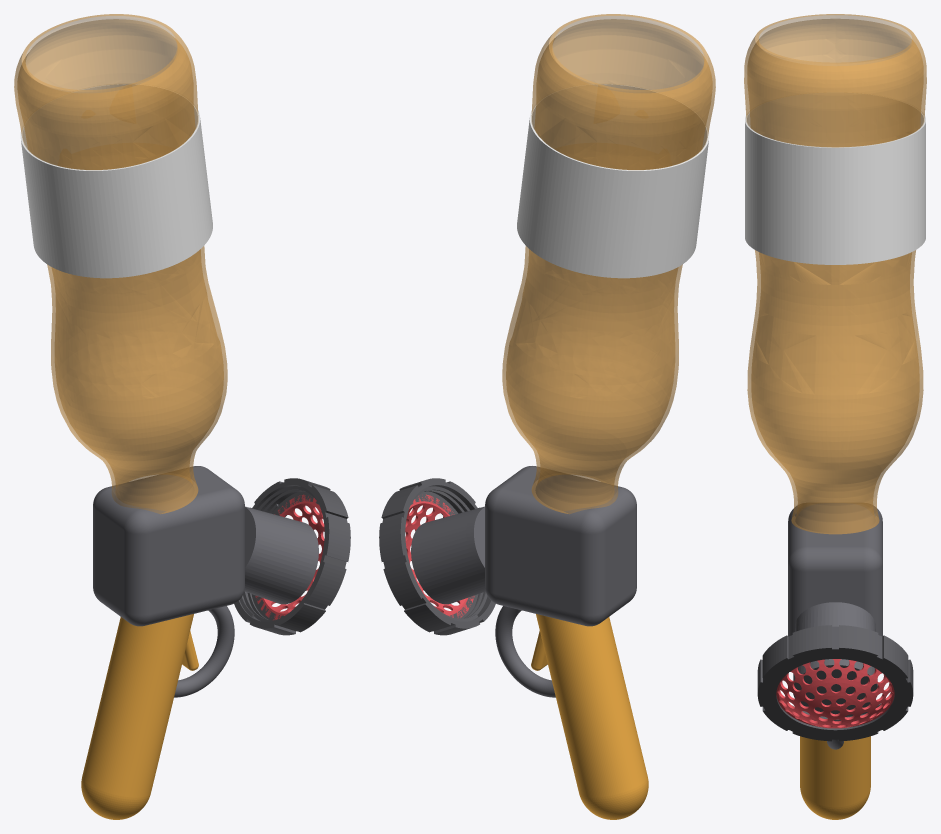
Rendered from concept_trigger.glb.
The picture shows the model from 3 angles, left to right: view 1: azimuth 30°, elevation 25°; view 2: azimuth 150°, elevation 25°; view 3: azimuth 270°, elevation 25°; orthographic projection.
Visible parts, largest first — view 1: bottle, label, body, grip, tip_ring, neck, guard, tip_dome; view 2: bottle, label, body, grip, tip_ring, neck, guard, tip_dome; view 3: bottle, label, body, tip_ring, tip_dome, grip, neck.
Part boxes in pixels (x1=…): bottle: x1=14, y1=14, x2=227, y2=514; label: x1=20, y1=83, x2=212, y2=278; body: x1=93, y1=466, x2=244, y2=626; grip: x1=81, y1=614, x2=193, y2=819; tip_ring: x1=234, y1=478, x2=350, y2=635; neck: x1=244, y1=506, x2=318, y2=604; guard: x1=174, y1=606, x2=234, y2=697; tip_dome: x1=255, y1=494, x2=324, y2=620; bottle: x1=502, y1=14, x2=715, y2=514; label: x1=517, y1=83, x2=709, y2=278; body: x1=485, y1=466, x2=636, y2=626; grip: x1=536, y1=614, x2=648, y2=819; tip_ring: x1=379, y1=478, x2=495, y2=635; neck: x1=411, y1=506, x2=485, y2=604; guard: x1=495, y1=606, x2=555, y2=697; tip_dome: x1=405, y1=494, x2=474, y2=617; bottle: x1=744, y1=14, x2=926, y2=534; label: x1=745, y1=92, x2=925, y2=264; body: x1=788, y1=503, x2=882, y2=636; tip_ring: x1=757, y1=625, x2=913, y2=741; tip_dome: x1=776, y1=659, x2=894, y2=728; grip: x1=800, y1=736, x2=870, y2=819; neck: x1=793, y1=602, x2=877, y2=714.
Bounding box in the file's own units: 150 × 363 × 77.18.
